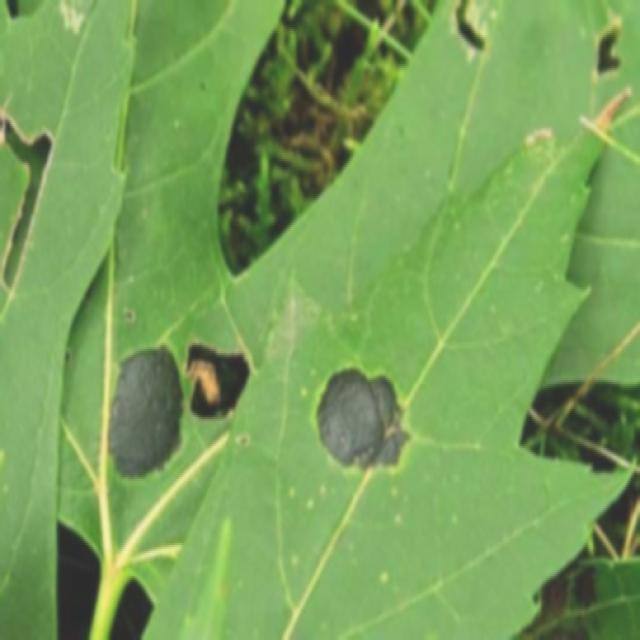Tar_Spot: (90, 236, 546, 548)
